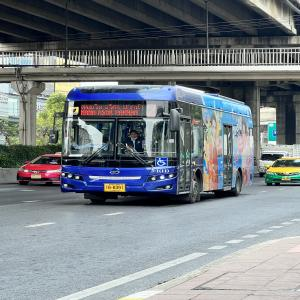Bus Line Number: (144, 102, 160, 118)
Bus Side Number: (150, 168, 170, 174)
Destination Sign: (80, 103, 144, 118)
TSB-Bus: (59, 82, 255, 204)
